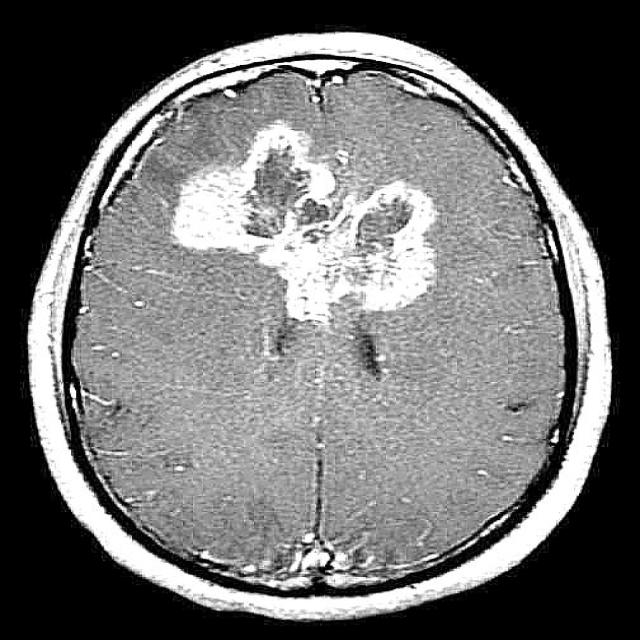Tumor-Cell: (174, 127, 422, 310)
